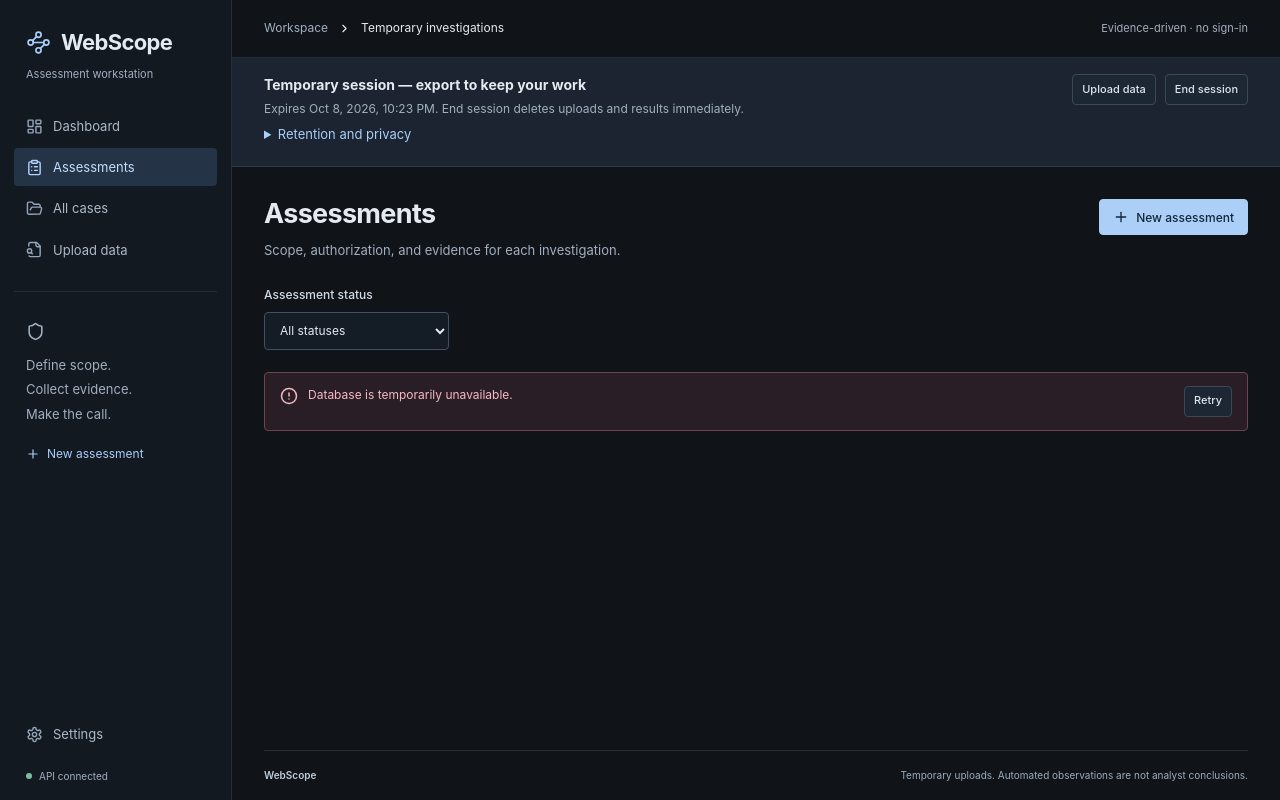
Test: assessment workflows with mocked API integration › shows API failures with a retry, not a fabricated empty result
The image size is (1280, 800).
Expected: the message "Database is temporarily unavailable. Retry" is shown, x1=264 y1=372 x2=1248 y2=431
Click the button "Retry": x=1208, y=401 x1=1184 y1=386 x2=1232 y2=417
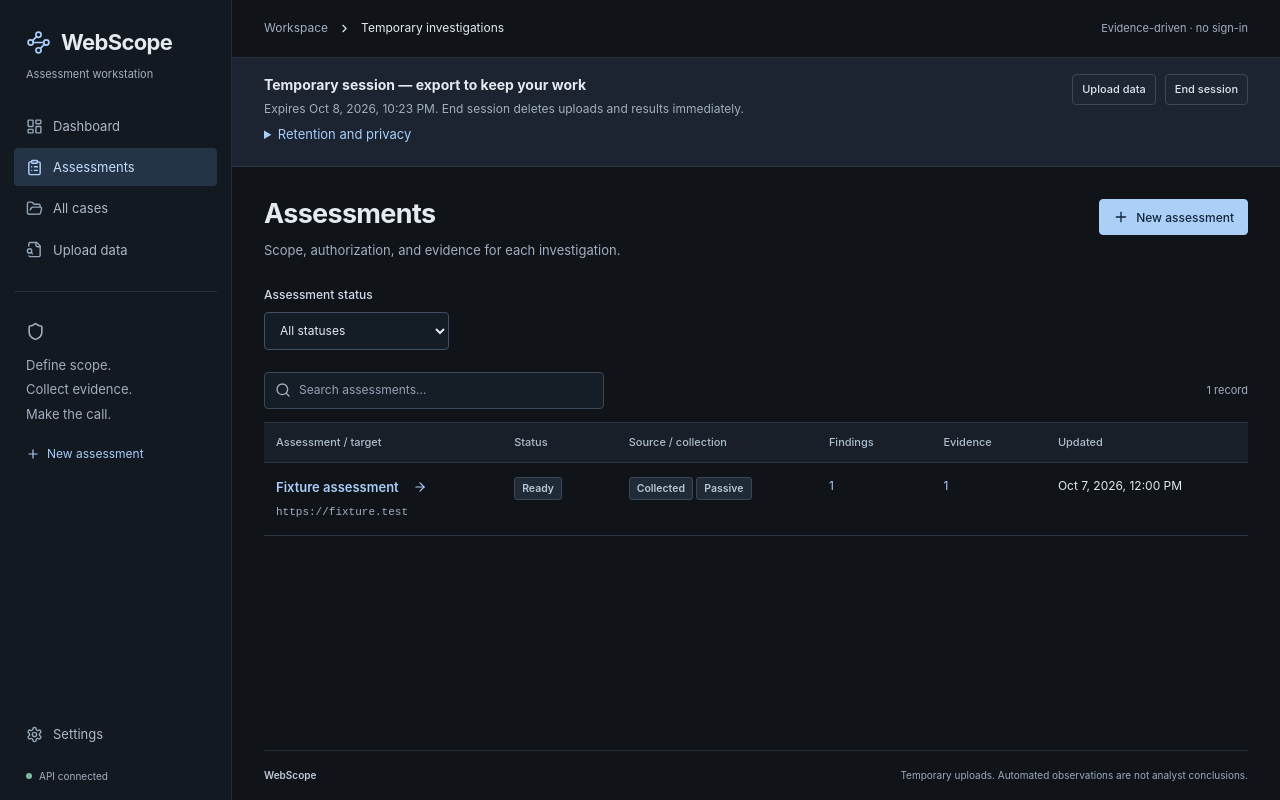
Now the link "Fixture assessment" is shown, box x1=276 y1=477 x2=427 y2=497
